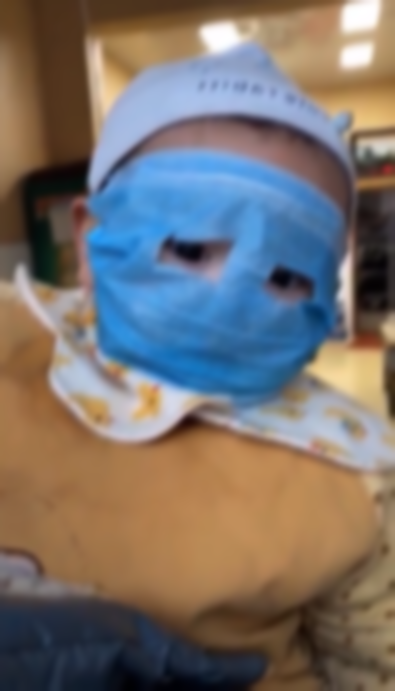mask_weared_incorrect: (67, 47, 355, 402)
